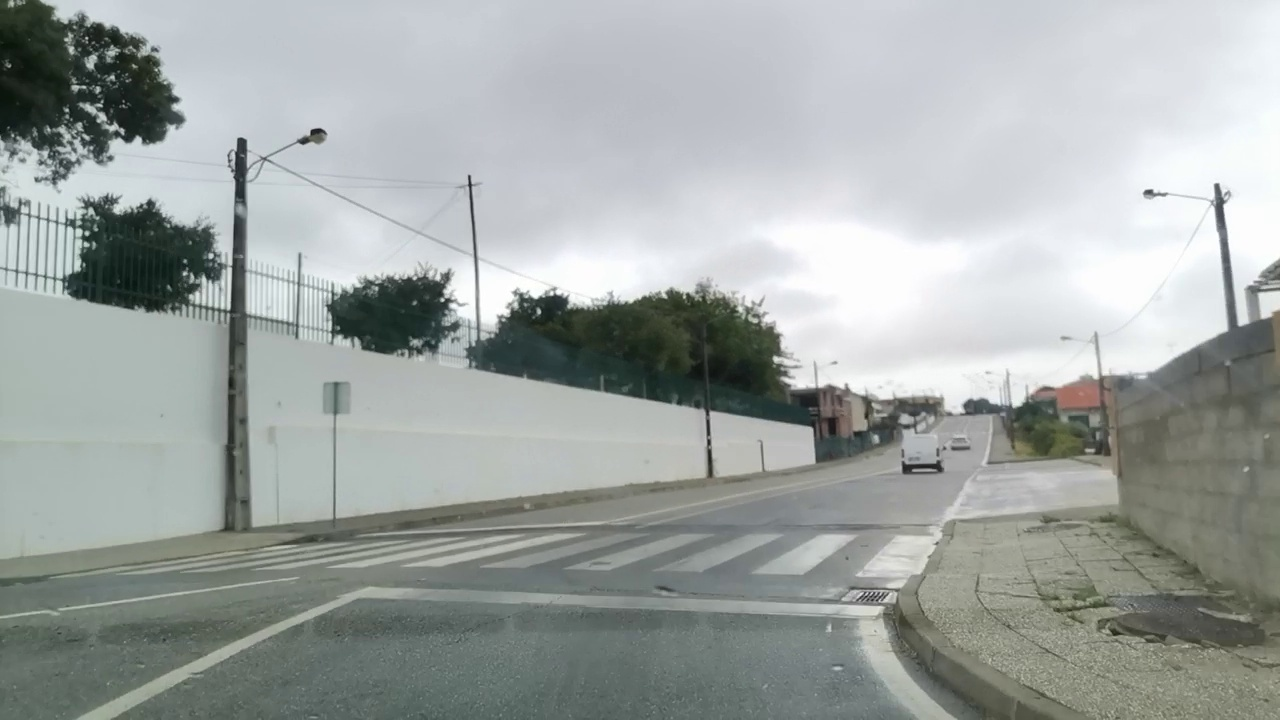Stairs: (69, 534, 930, 577)
